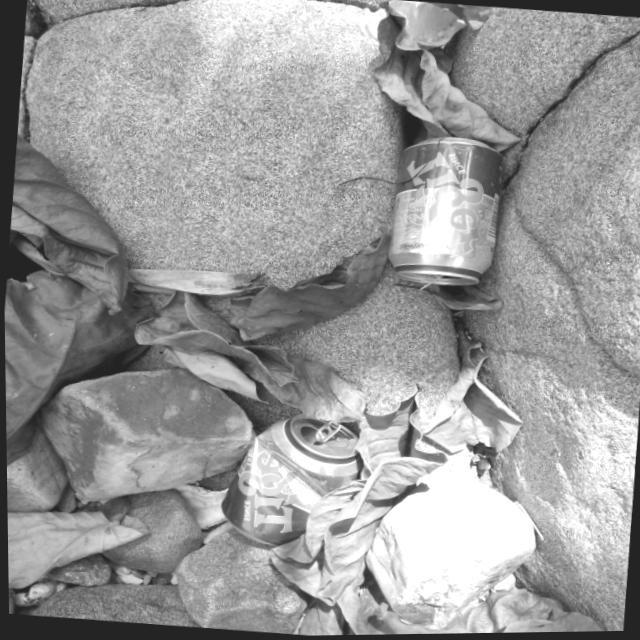Can-Metal: (364, 119, 532, 306), (195, 403, 380, 565)
